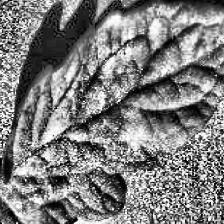leaf mold: (0, 5, 224, 224)
